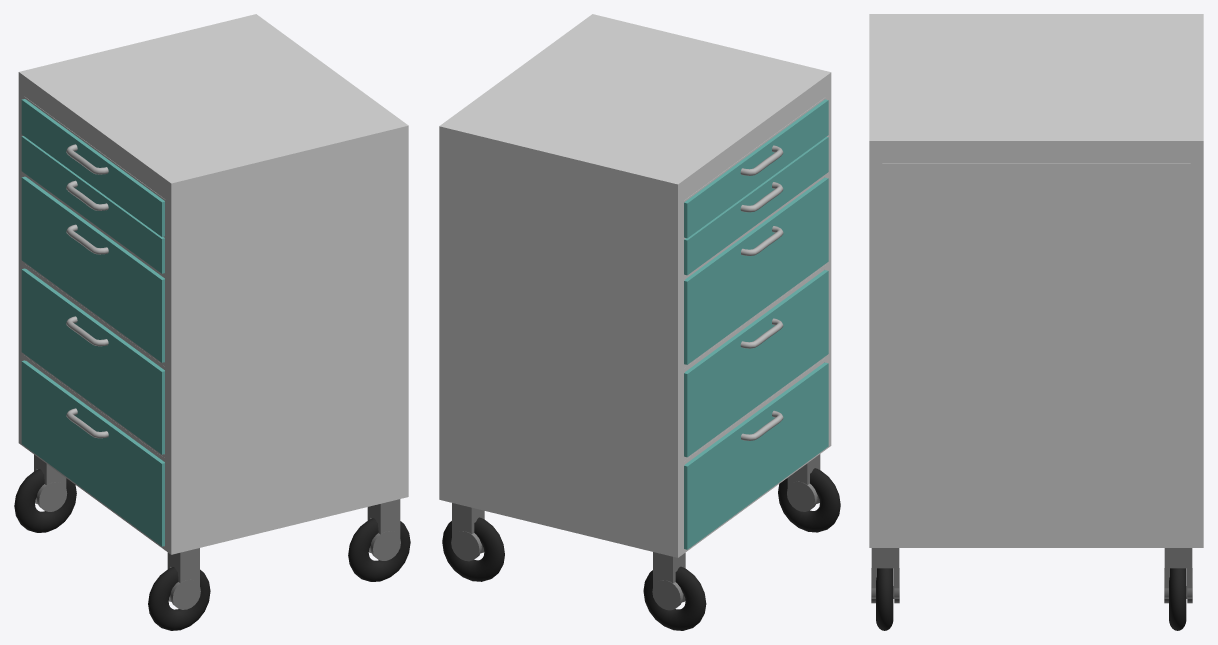
File: Blue and White Drawers.fbx
3 renders of one model, left to right at view 1: azimuth 30°, elevation 25°; view 2: azimuth 150°, elevation 25°; view 3: azimuth 270°, elevation 25°, orthographic. The views are drawn at different scales.
Parts seen in each view (by area): view 1: Surgery_side_table_leg_10, Surgery_side_table_leg_14, Surgery_side_table_leg_12, Surgery_side_table_leg_18, Surgery_side_table_leg_16 (×2), Drugery_table_hio2 (×3), Surgery_side_table_leg_9, pCylinder9 (×3), Surgery_side_table_leg_19 (×2), Surgery_side_table_leg_13, Surgery_side_table_leg_11, Surgery_side_table_leg_17; view 2: Surgery_side_table_leg_9, Surgery_side_table_leg_10, Surgery_side_table_leg_12, Surgery_side_table_leg_14, Surgery_side_table_leg_18, Surgery_side_table_leg_16 (×2), Drugery_table_hio2 (×3), pCylinder8 (×3), Surgery_side_table_leg_19 (×2), Surgery_side_table_leg_13, Surgery_side_table_leg_11, Surgery_side_table_leg_17; view 3: Surgery_side_table_leg_10, Surgery_side_table_leg_11, Surgery_side_table_leg_17, Surgery_side_table_leg_13, Surgery_side_table_leg_15 (×2), Surgery_side_table_leg_9, Drugery_table_hio2 (×2), Surgery_side_table_leg_19 (×2).
Part boxes in pixels (box(x1,y1,x2,y2)): Surgery_side_table_leg_10: box(24, 18, 408, 554); Surgery_side_table_leg_14: box(21, 360, 164, 546); Surgery_side_table_leg_12: box(21, 268, 164, 454); Surgery_side_table_leg_18: box(21, 176, 164, 362); Surgery_side_table_leg_16 (×2): box(21, 99, 164, 273); Drugery_table_hio2 (×3): box(14, 469, 410, 630); Surgery_side_table_leg_9: box(18, 14, 261, 447); pCylinder9 (×3): box(36, 482, 400, 609); Surgery_side_table_leg_19 (×2): box(167, 499, 400, 585); Surgery_side_table_leg_13: box(24, 356, 167, 551); Surgery_side_table_leg_11: box(24, 264, 167, 460); Surgery_side_table_leg_17: box(24, 174, 167, 368); Surgery_side_table_leg_9: box(439, 122, 683, 557); Surgery_side_table_leg_10: box(445, 14, 831, 447); Surgery_side_table_leg_12: box(684, 270, 828, 457); Surgery_side_table_leg_14: box(684, 362, 828, 549); Surgery_side_table_leg_18: box(684, 177, 828, 364); Surgery_side_table_leg_16 (×2): box(684, 99, 828, 275); Drugery_table_hio2 (×3): box(442, 468, 840, 630); pCylinder8 (×3): box(451, 481, 817, 610); Surgery_side_table_leg_19 (×2): box(452, 503, 685, 597); Surgery_side_table_leg_13: box(684, 356, 827, 553); Surgery_side_table_leg_11: box(684, 264, 827, 460); Surgery_side_table_leg_17: box(684, 173, 827, 368); Surgery_side_table_leg_10: box(869, 14, 1193, 547); Surgery_side_table_leg_11: box(882, 346, 1194, 447); Surgery_side_table_leg_17: box(882, 246, 1194, 346); Surgery_side_table_leg_13: box(882, 447, 1194, 547); Surgery_side_table_leg_15 (×2): box(882, 163, 1194, 245); Surgery_side_table_leg_9: box(1190, 14, 1203, 547); Drugery_table_hio2 (×2): box(876, 568, 1186, 630); Surgery_side_table_leg_19 (×2): box(871, 548, 1192, 598).
Size of the model in its own units: 4.29 by 7.15 by 4.34.
